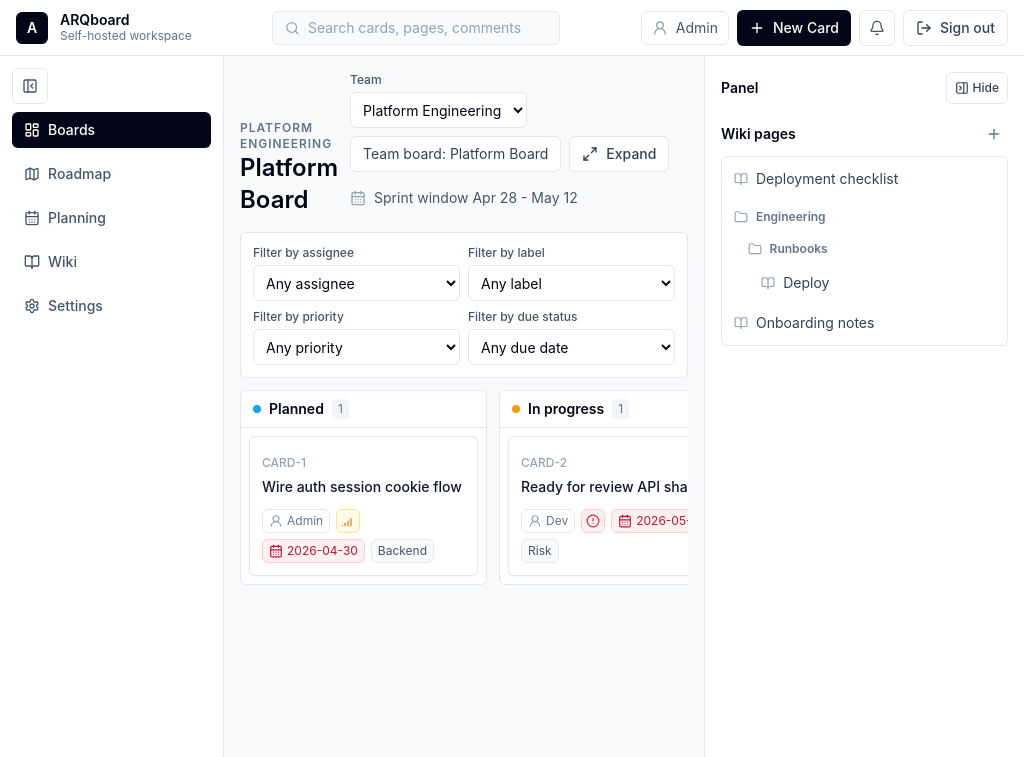
it: App › expands the kanban board and collapses the left navigation
Expected: the heading "Platform Board" is shown, [240,152,338,216]
Click the button with aria-label "view card wire auth session cookie flow". click: point(364, 506)
box: [250,437,477,575]
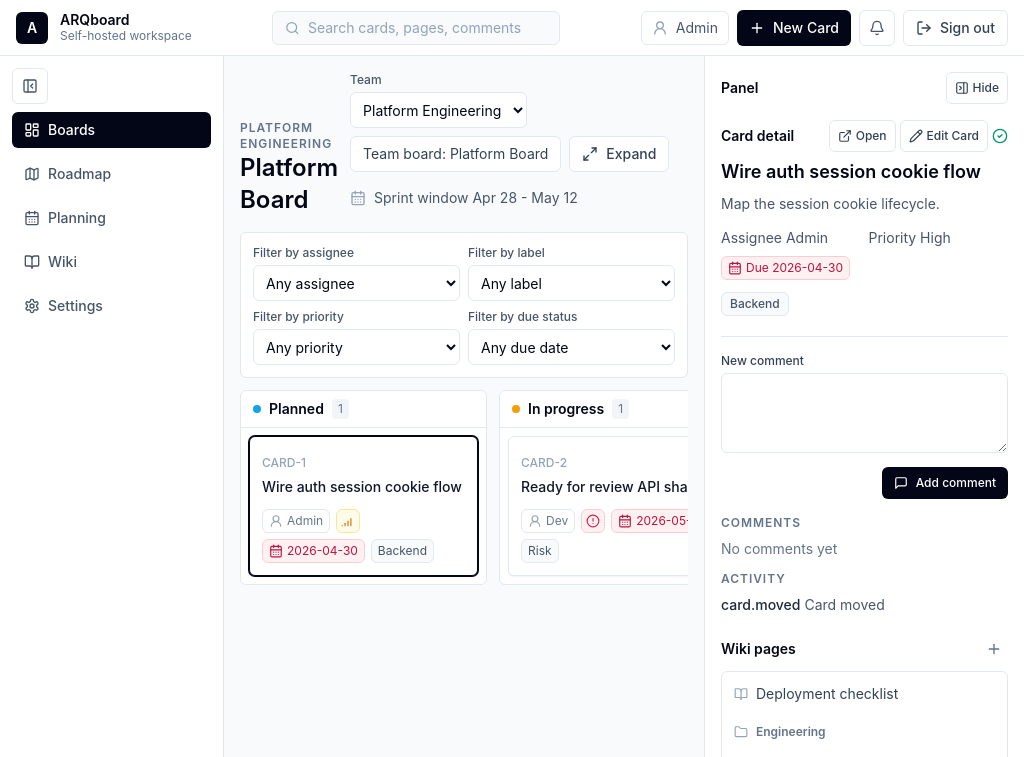
Now the element "Card detail" is shown, box [721,120,1008,615]
Click the button with aria-label "expand kanban board". click: point(619, 154)
box: [569,136,670,172]
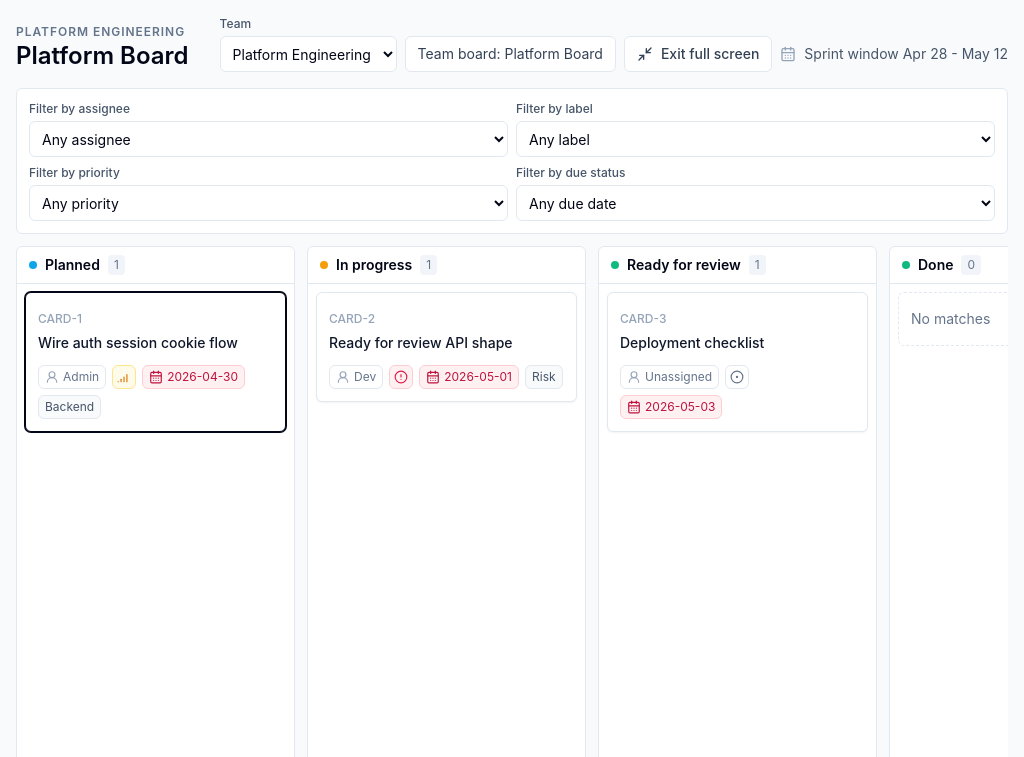
Now the button with aria-label "exit full screen board" is shown
Now the heading "Card detail" is gone
Now the heading "Wiki pages" is gone
Click the button with aria-label "exit full screen board". click: point(698, 54)
box: [624,36,772,72]
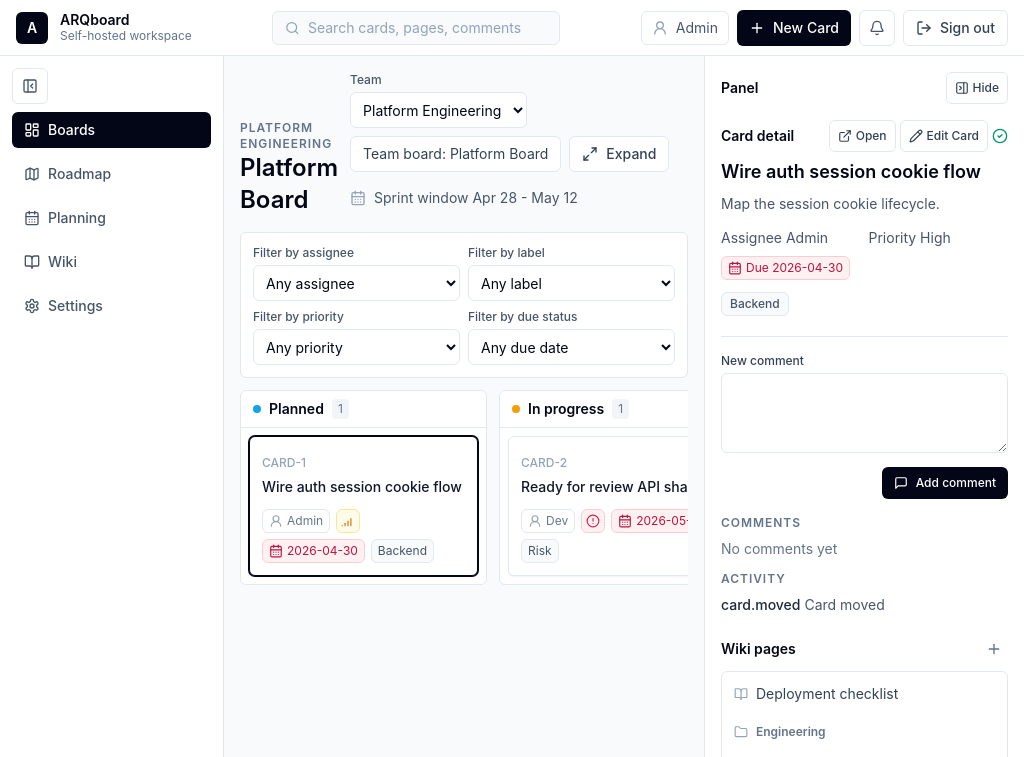
Now the button with aria-label "expand kanban board" is shown, box [569,136,670,172]
Click the button named "collapse navigation". click: point(30, 86)
box: [12,68,48,104]
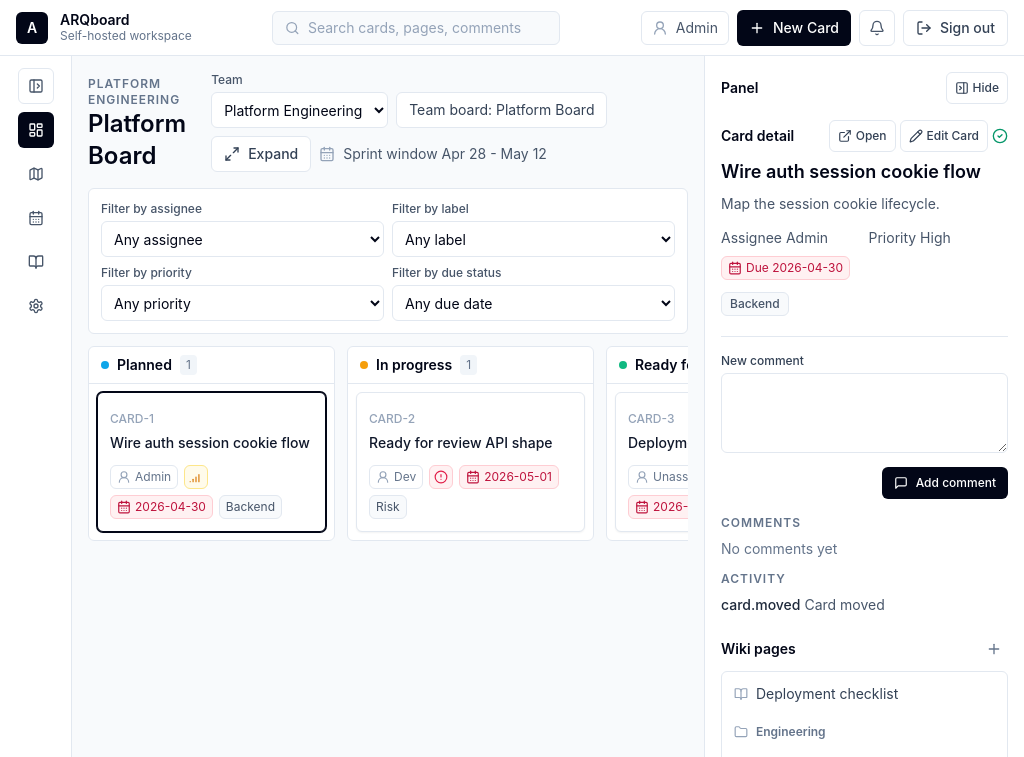
Now the button named "expand navigation" is shown, box [18,68,54,104]
